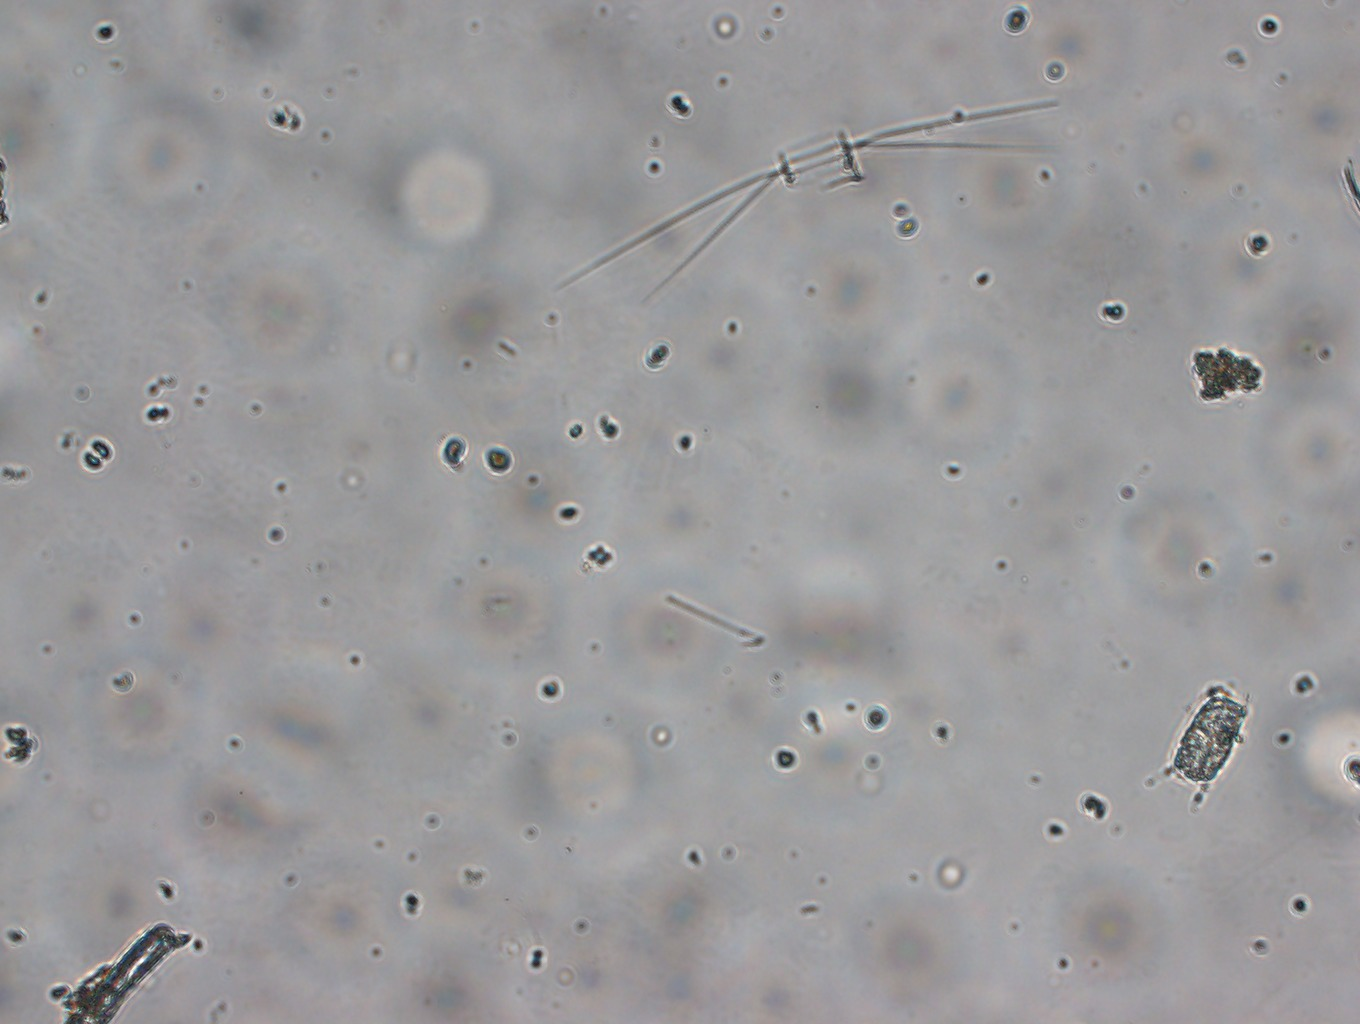chaetoceros: (546, 93, 1112, 295)
